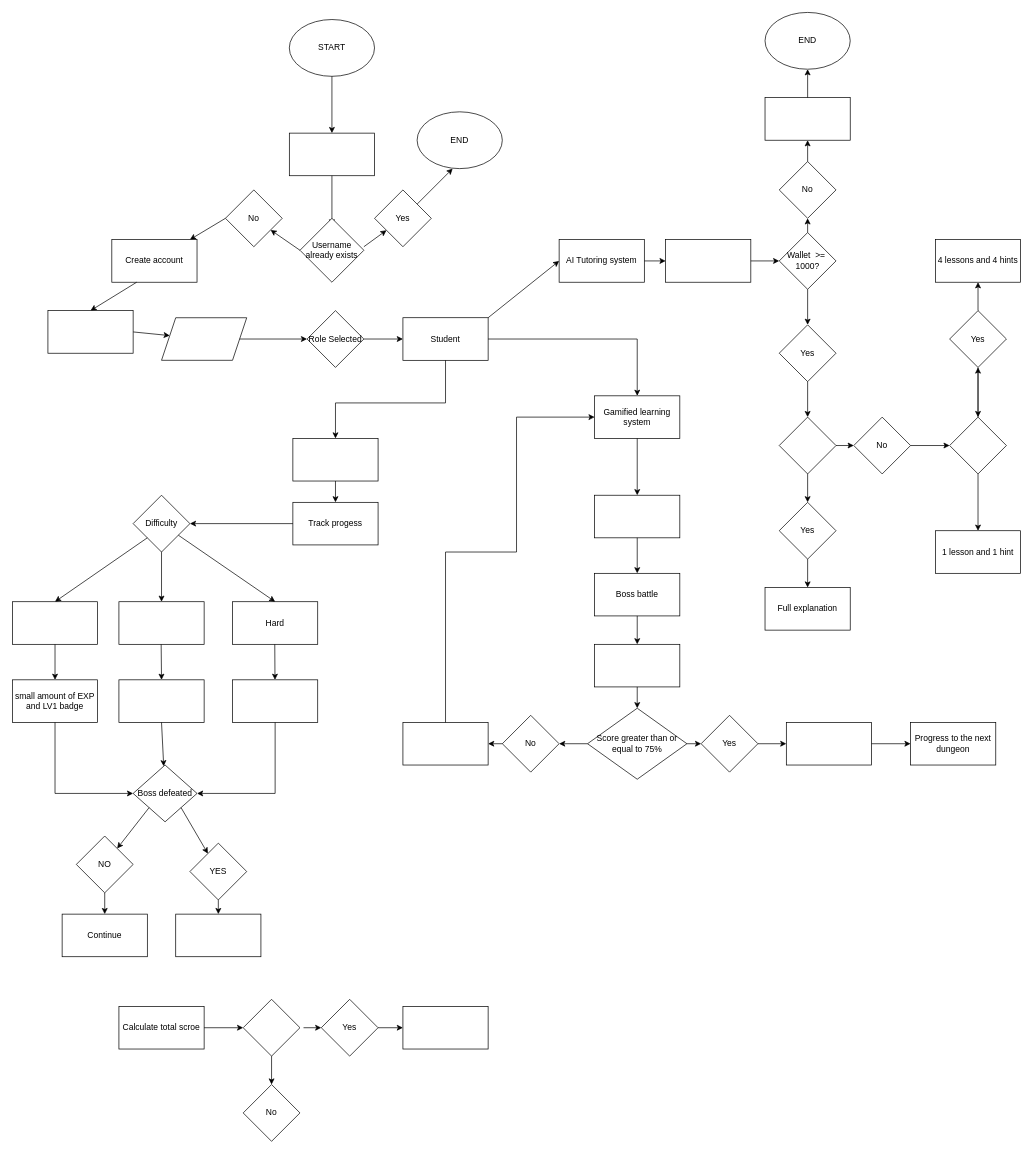
Image size: 1033x1154. Some labels were removed from this diagram. The shapes that lost their labels are listed below. From the top down, each one's centre as x and y in pixels, then its label:
At [807,118]: "Insufficient funds".
At [332,154]: "User Account Management".
At [708,260]: "Check wallet".
At [90,331]: "Welcome to app".
At [204,338]: "Get user role selection".
At [335,459]: "View rewards and progress".
At [807,445]: "wallet .>= 5000".
At [977,445]: "wallet .>= 3000".
At [637,516]: "Completed challenges".
At [55,622]: "Easy".
At [161,622]: "Medium".
At [637,665]: "Score".
At [161,700]: "Medium amount of EXP and LV2 badge".
At [275,700]: "Large amount of EXP and LV3 badge".
At [445,743]: "Restart dungeon".
At [829,743]: "Earn Certification".
At [218,935]: "Add bonus exp and boss badge".
At [271,1027]: "Score >=75".
